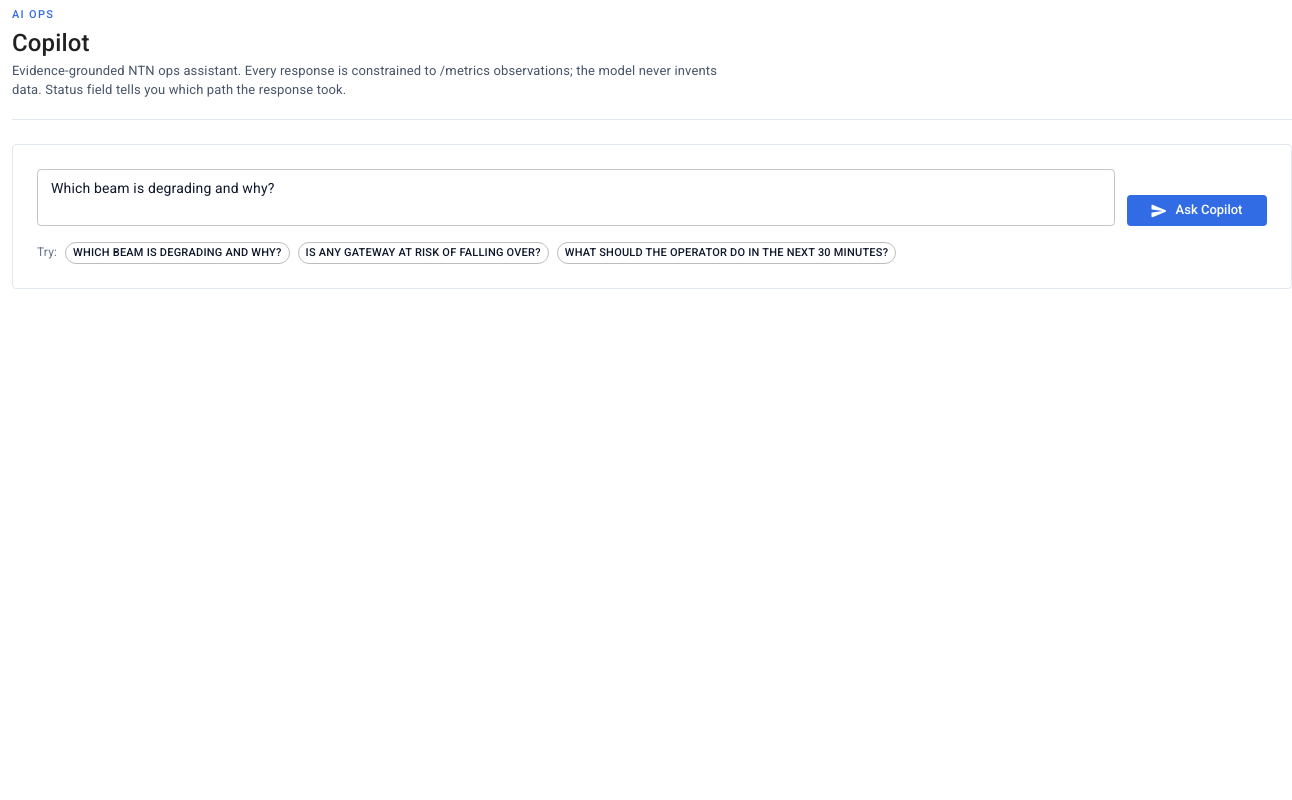
Scenario: Copilot — H.1.4 risk_if_ignored + evidence metadata › renders 'Risk if ignored' section with the response text
Step 1. Click the button "Ask Copilot" → [1197, 211], box x1=1127 y1=196 x2=1267 y2=226
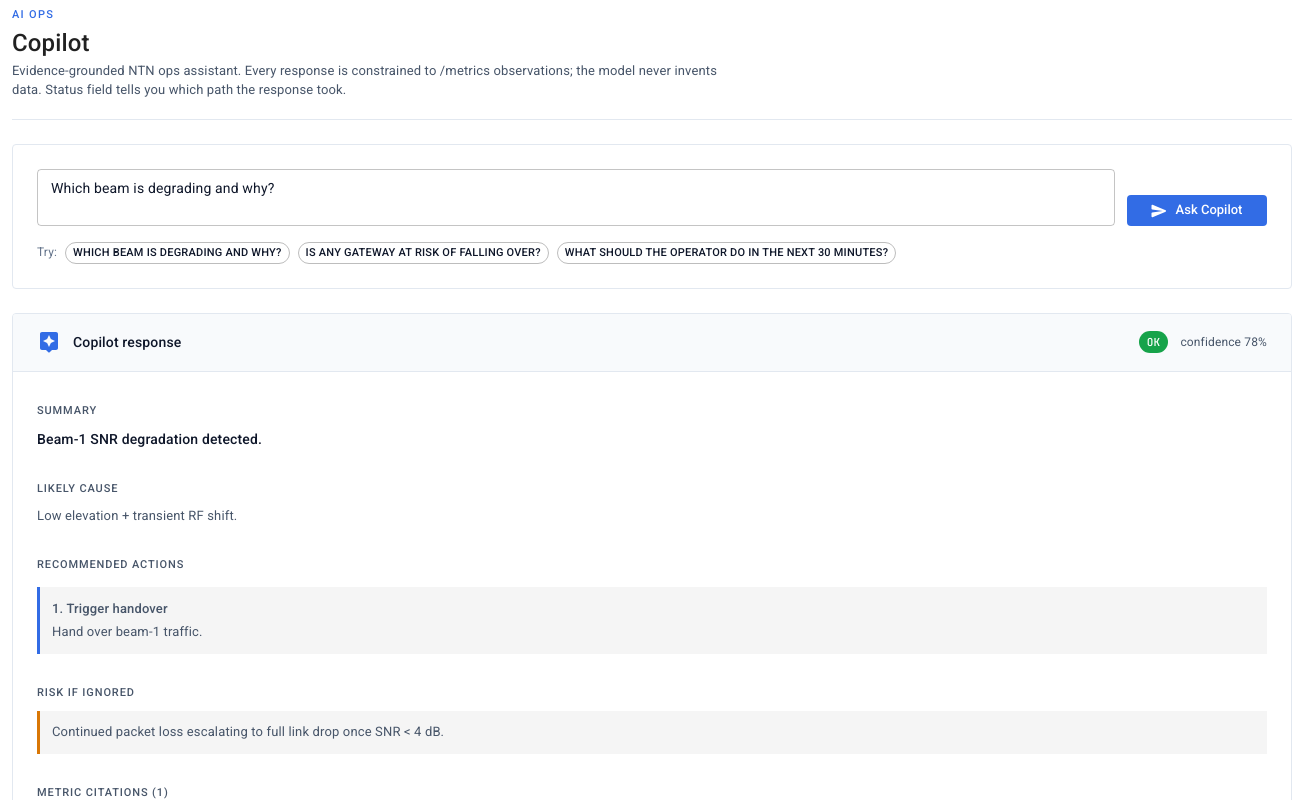
Check: the text "Risk if ignored" is shown, box x1=37 y1=686 x2=135 y2=699
Check: the text "escalating to full link drop" is shown, box x1=52 y1=724 x2=444 y2=739
